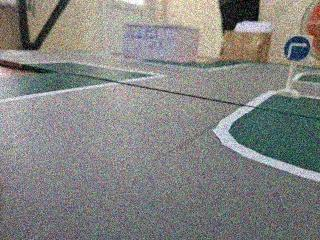right: (274, 30, 317, 66)
